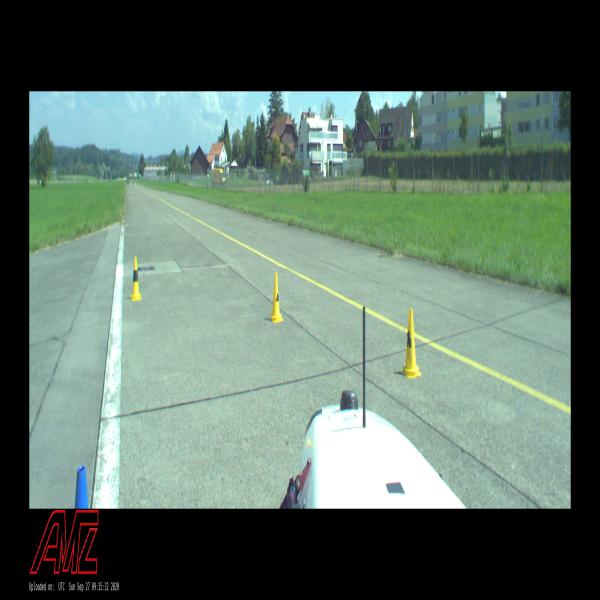yellow_cone: (401, 308, 421, 378), (269, 273, 284, 322), (130, 256, 142, 301)
